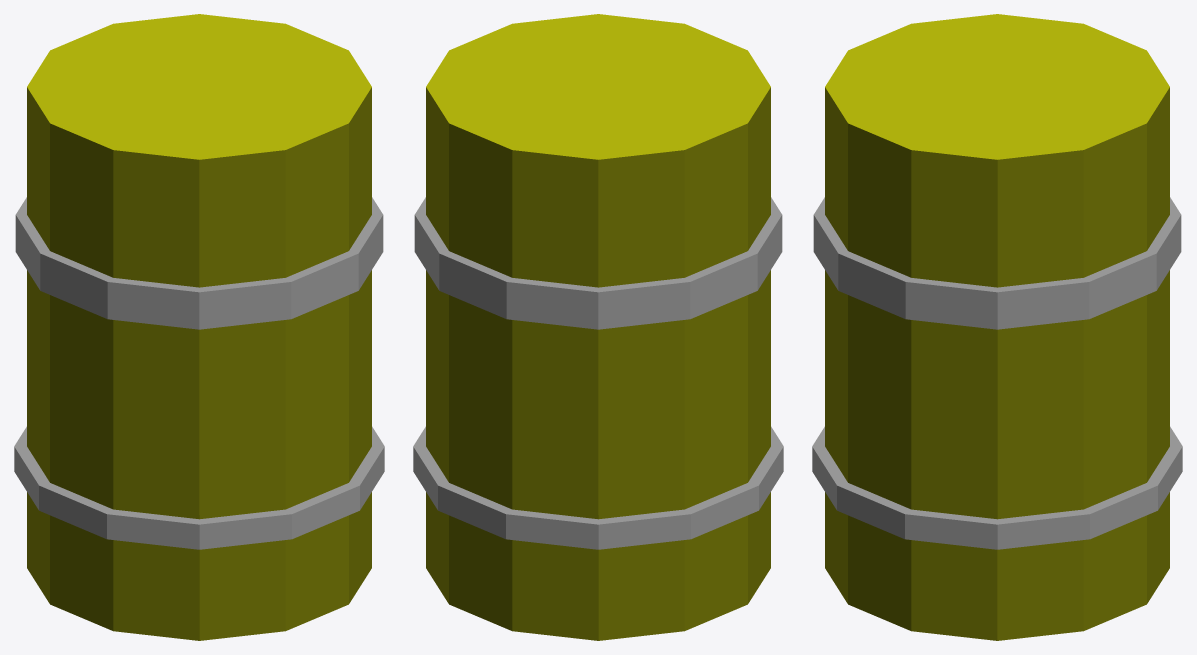
Rendered from Barrel.fbx.
3 views of the same model, side by side, from view 1: azimuth 30°, elevation 25°; view 2: azimuth 150°, elevation 25°; view 3: azimuth 270°, elevation 25° (orthographic).
Visible parts, largest first — view 1: barrel; view 2: barrel; view 3: barrel.
Boxes of the visible parts, x1=… form: barrel: x1=14, y1=14, x2=384, y2=640; barrel: x1=413, y1=14, x2=783, y2=640; barrel: x1=812, y1=14, x2=1182, y2=640.
Size of the model in its own units: 215 by 308 by 215.
